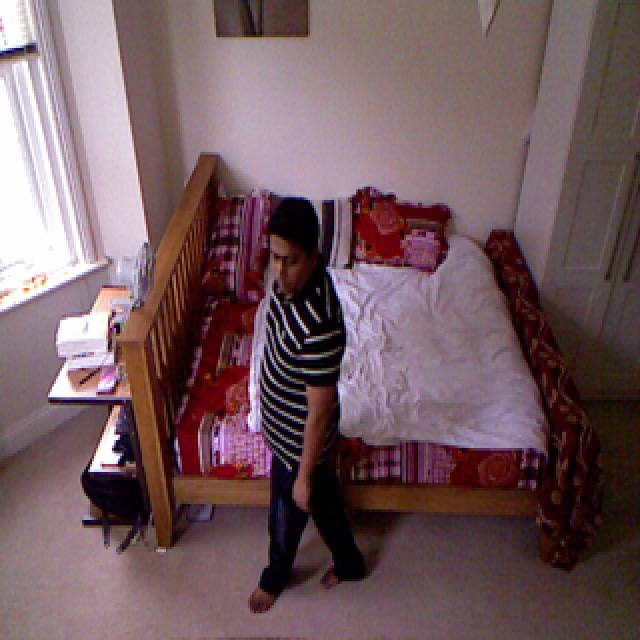standing: (253, 185, 365, 606)
